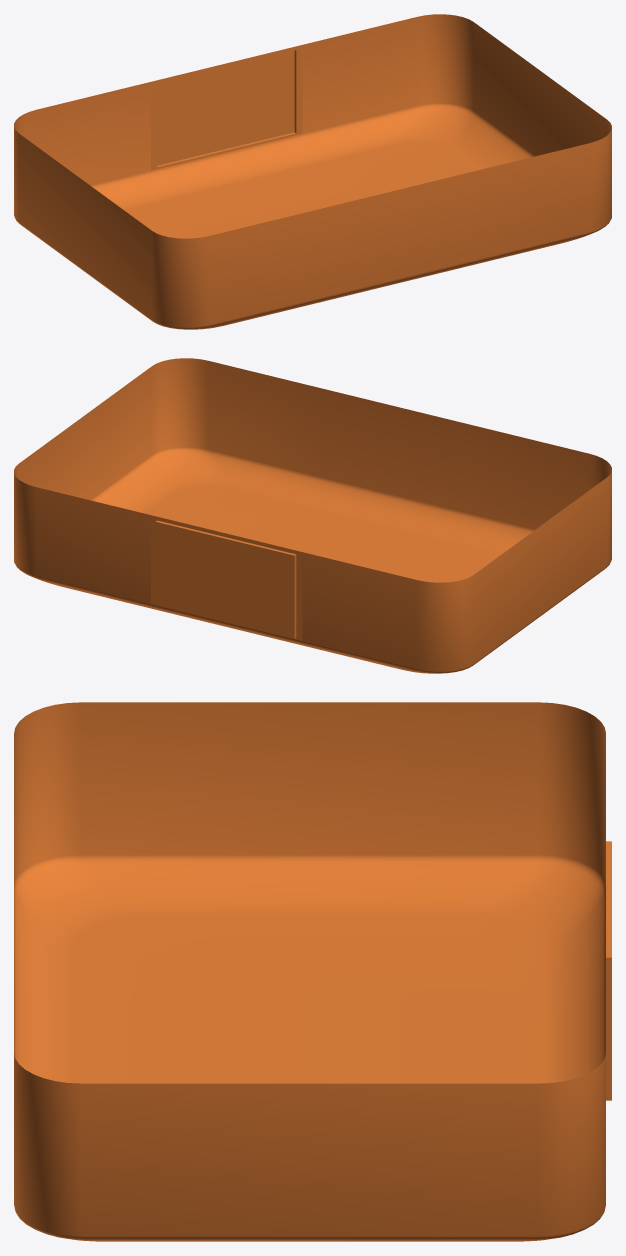
File: Bowl.fbx
The picture shows the model from 3 angles, top to bottom: view 1: azimuth 30°, elevation 25°; view 2: azimuth 150°, elevation 25°; view 3: azimuth 270°, elevation 25°; orthographic projection. The views are drawn at different scales.
Visible parts, largest first — view 1: Bowl; view 2: Bowl; view 3: Bowl.
Boxes of the visible parts, x1=… form: Bowl: x1=14, y1=14, x2=611, y2=329; Bowl: x1=14, y1=358, x2=611, y2=673; Bowl: x1=14, y1=702, x2=611, y2=1241.
Size of the model in its own units: 683 by 151 by 453.
